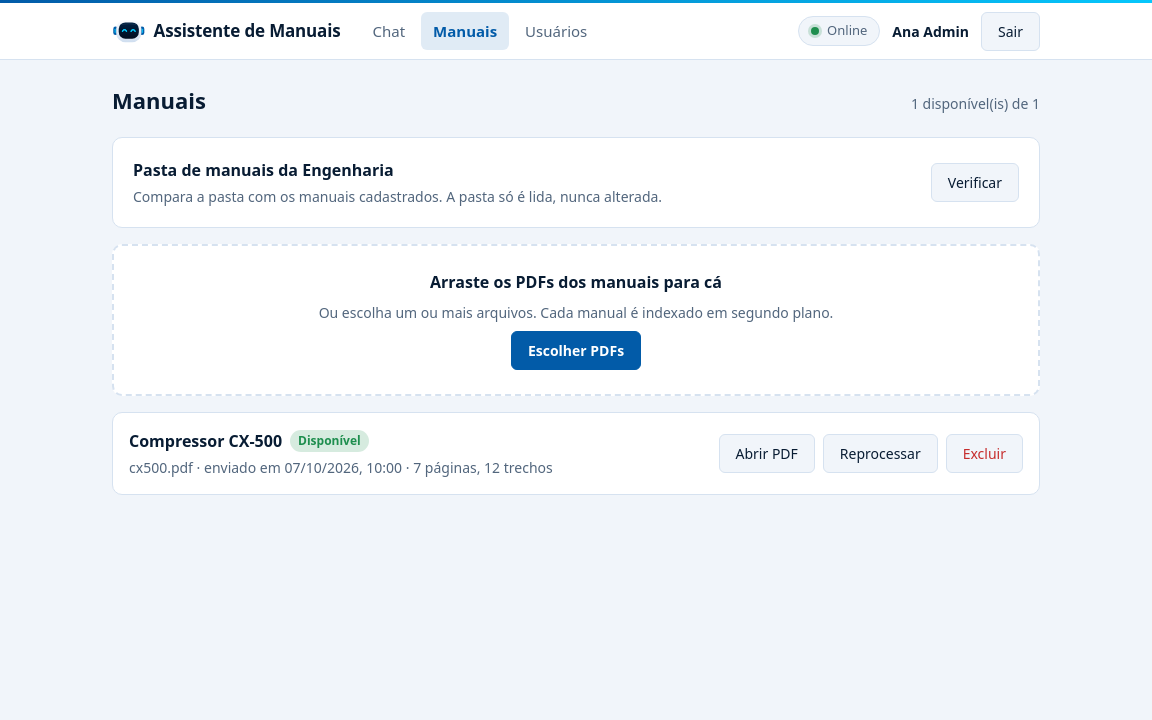
Test case: <ManualsAdmin /> › sync with the Engineering folder › says when everything is up to date
Click the button "Verificar": (975, 182) [931,163,1019,202]
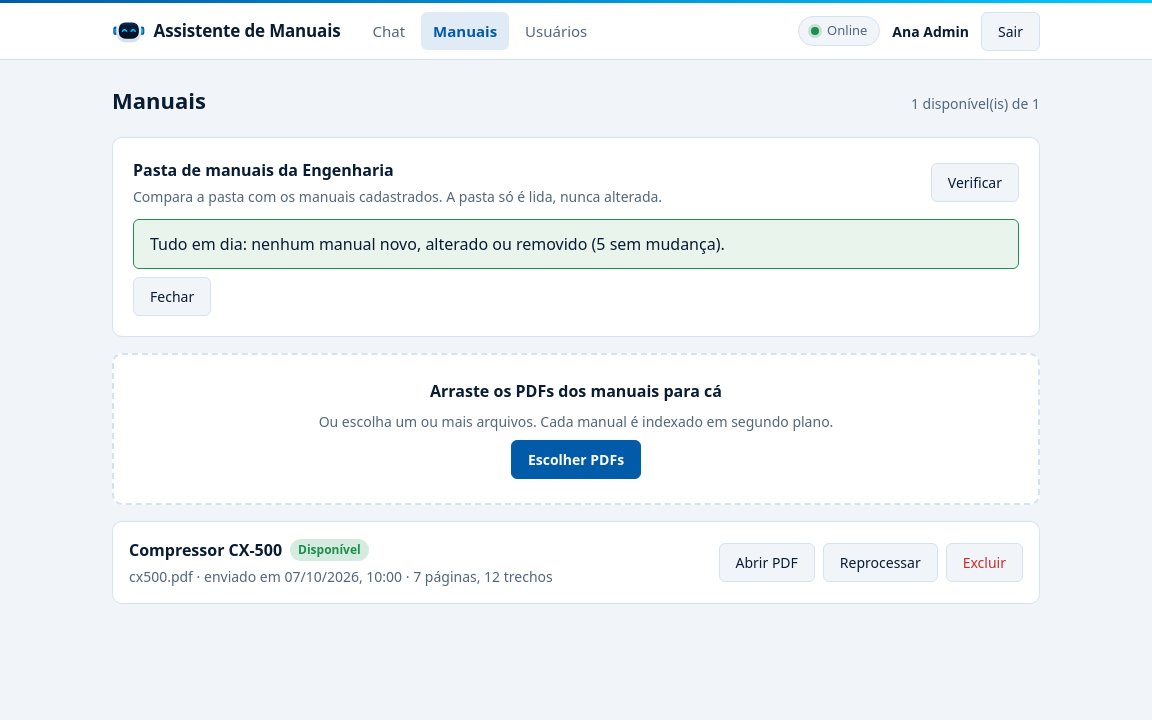
Expected: the text "Tudo em dia: nenhum manual novo, alterado ou removido (5 sem mudança)." is shown, [133,219,1019,269]
